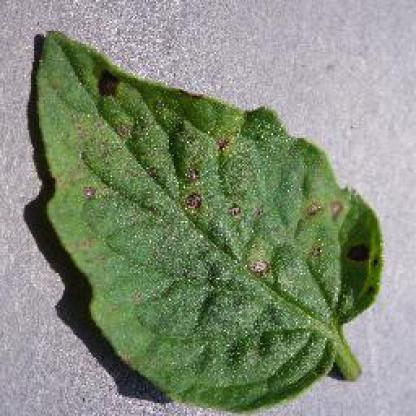bad leaf: (4, 23, 375, 409)
